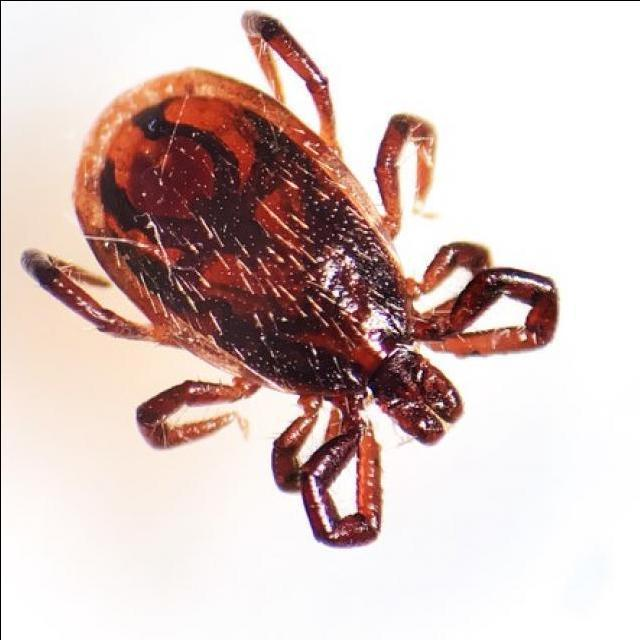Ixodes Ricinus-M: (19, 7, 561, 548)
